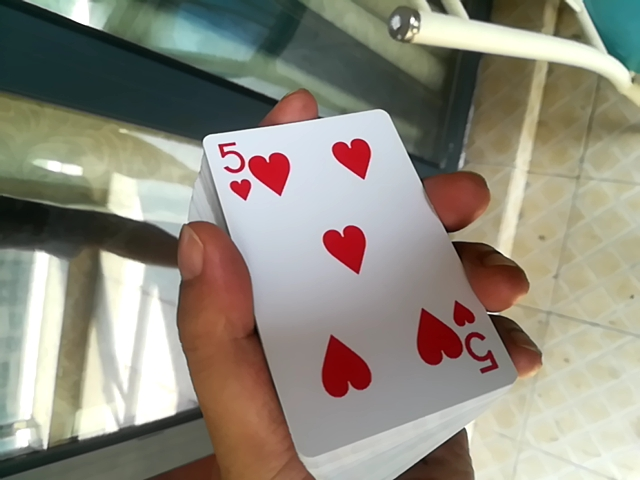hx 5: (176, 97, 489, 450)
